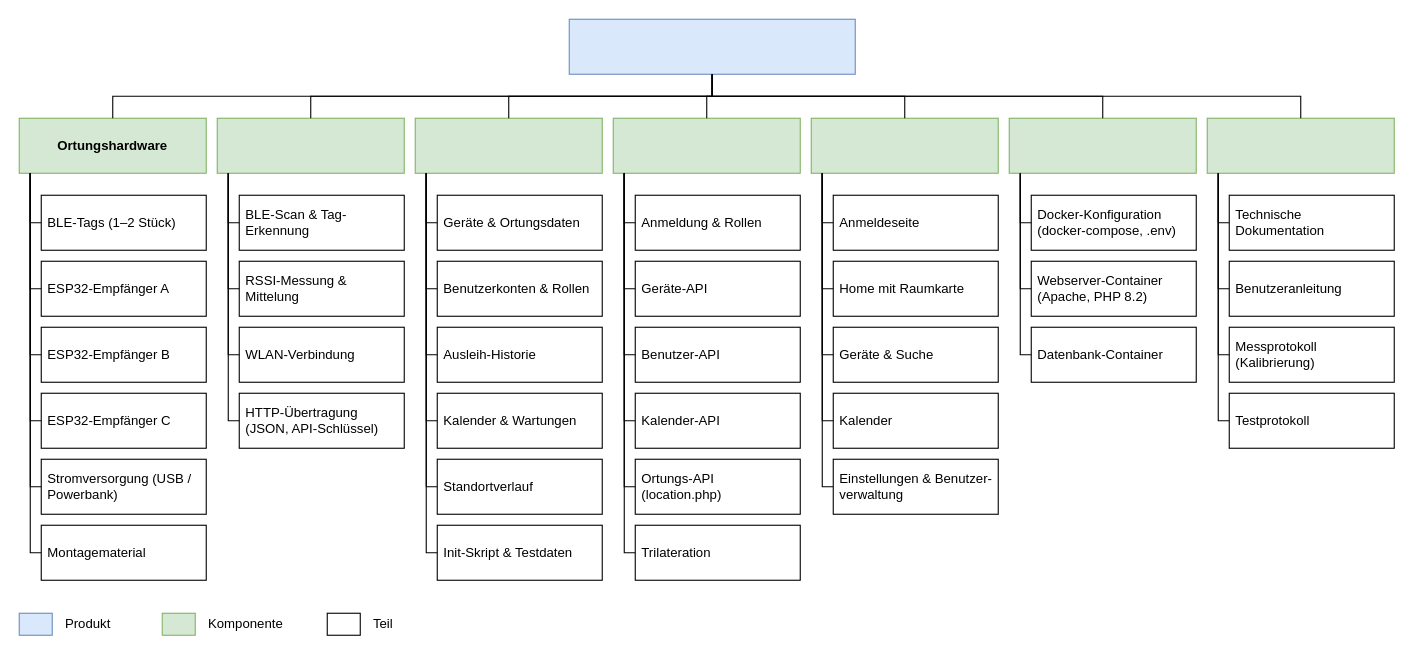
Some shapes in this 1414 by 655 pixel diagram are drawn without their labels. Each missing label, with the box of its shape:
Backend (PHP): (612, 117, 800, 173)
Betriebs­umgebung: (1008, 117, 1196, 173)
Datenbank (PostgreSQL): (414, 117, 602, 173)
ESP32-Firmware: (216, 117, 404, 173)
MedTrack Produktstrukturplan: (568, 18, 855, 74)
Produkt­dokumentation: (1206, 117, 1394, 173)
Webanwendung: (810, 117, 998, 173)
